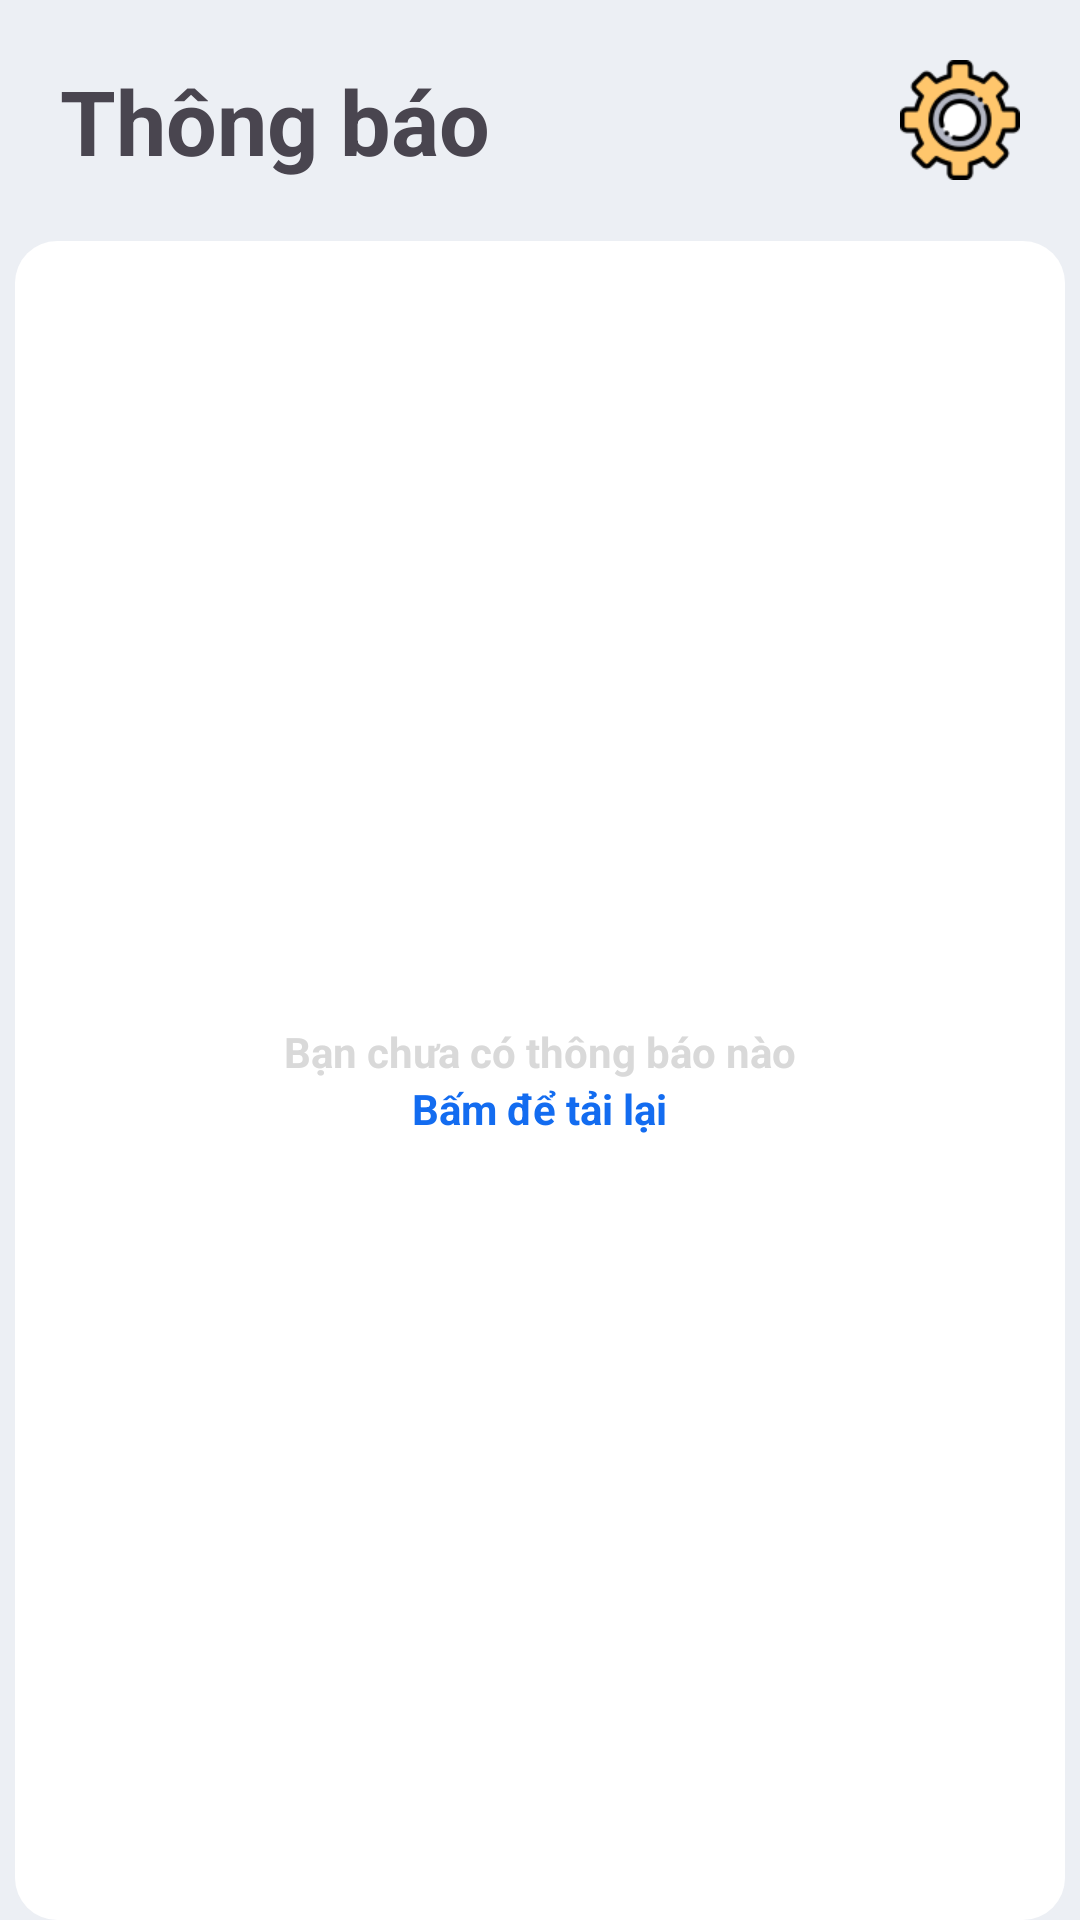

Screen size 1080w x 1920h. Icon name, then its center in pixels as (x,y):
setting: (960,120)
